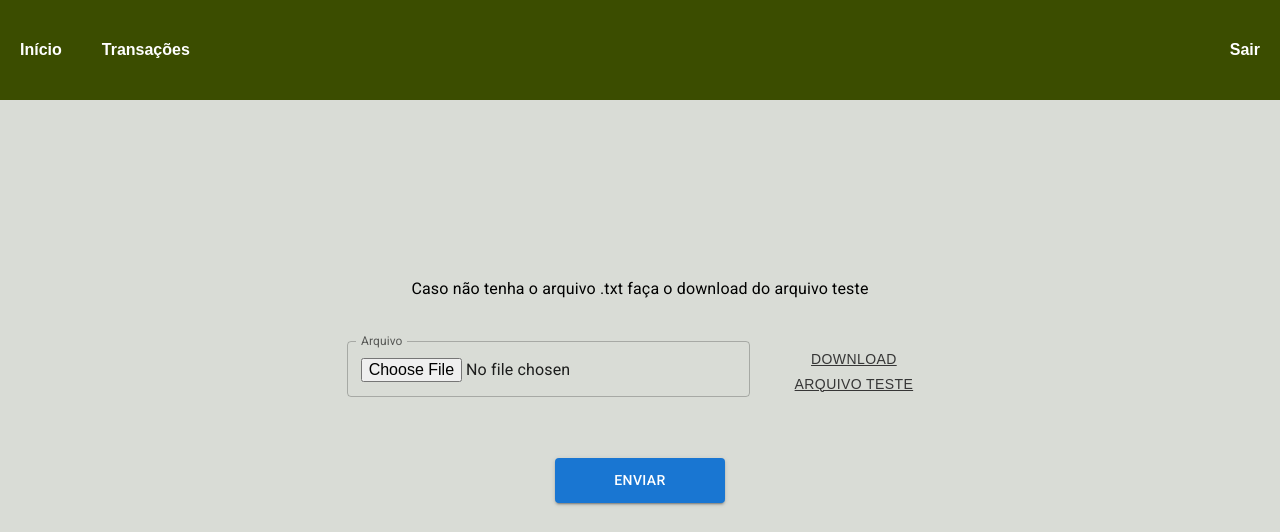
Home › should render require file input
What coordinates should you click on to do the following:
click the button "Enviar"
I would click on:
 (640, 480)
Its box is [555,458,725,503].
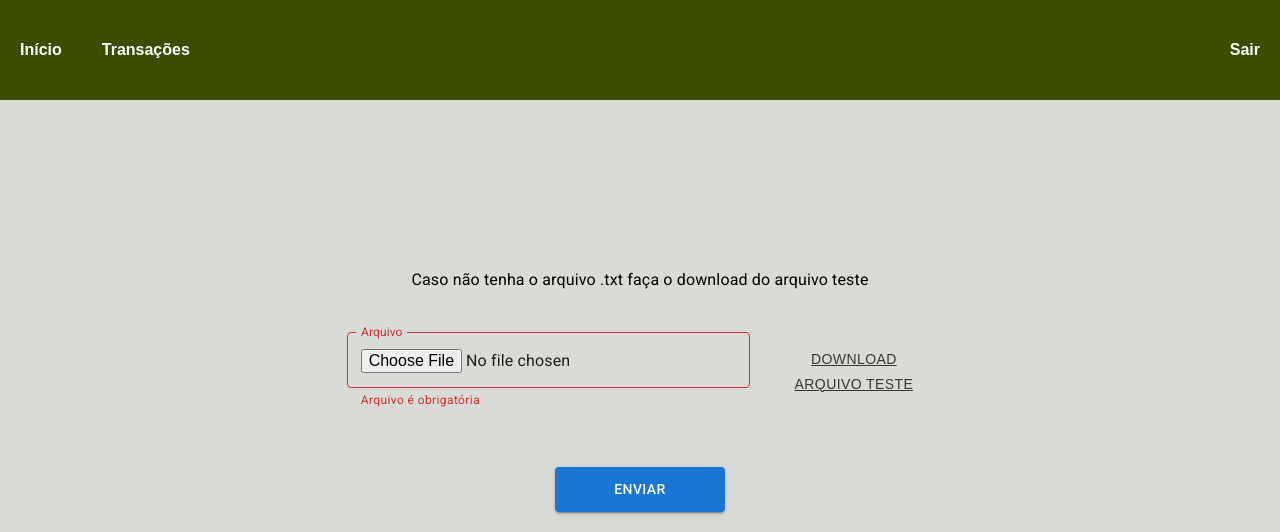
Expected: the text "Arquivo é obrigatória" is shown, [361,393,480,407]
